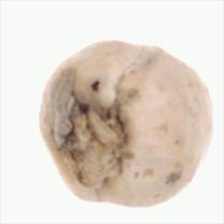L3: (61, 98, 134, 194)
L4: (38, 41, 215, 209)
